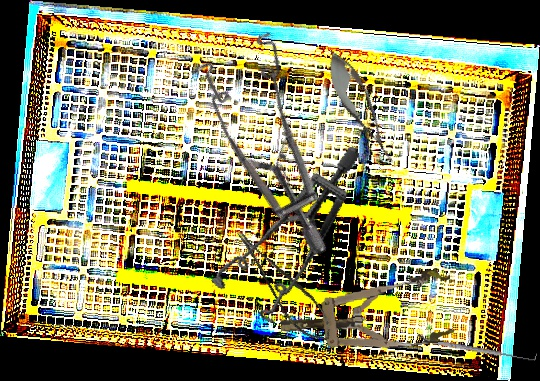Hook Surgical: (423, 333, 538, 364)
Micro Scissor: (233, 216, 339, 353), (315, 43, 407, 172)
Speculum: (149, 9, 410, 258), (184, 145, 404, 338), (276, 267, 458, 362)
